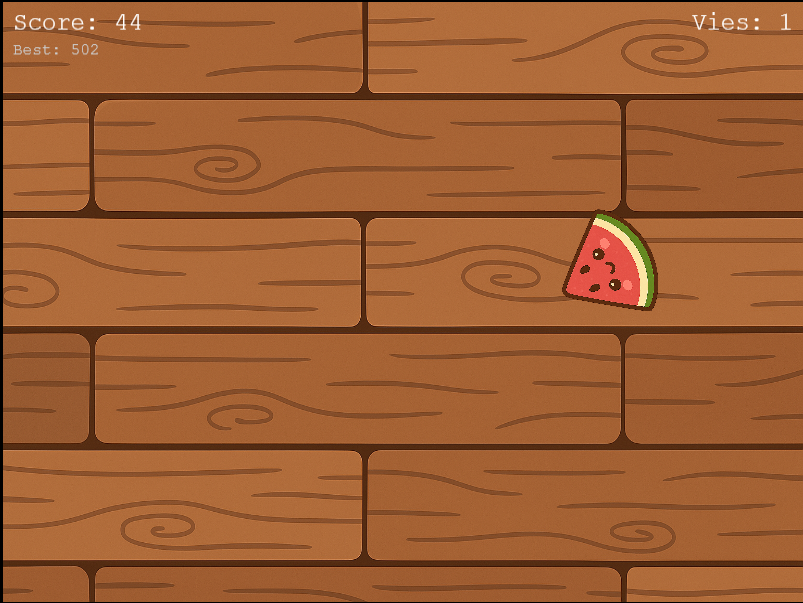fruit: (558, 207, 665, 317)
